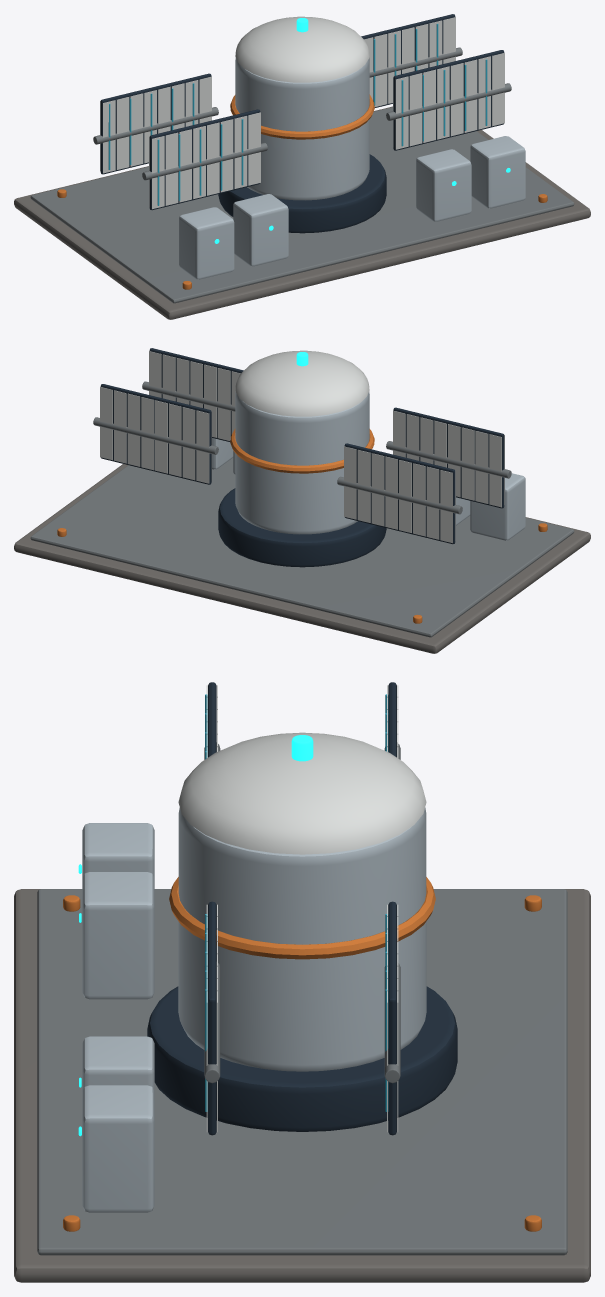
The model's file is polar-nuclear-station.glb.
The picture shows the model from 3 angles, top to bottom: view 1: azimuth 30°, elevation 25°; view 2: azimuth 150°, elevation 25°; view 3: azimuth 270°, elevation 25°; orthographic projection. The views are drawn at different scales.
Visible parts, largest first — view 1: RenderBatch_PolarNuclearStation_POLAR_NUC_Body, PolarNuclearStation_ServiceDeck, PolarNuclearStation_Foundation, Detail_PolarNuclear_Radiator_+1_-1, PolarNuclear_ReactorCrown, Detail_PolarNuclear_Radiator_-1_-1, Detail_PolarNuclear_Radiator_-1_+1, PolarNuclear_ReactorSkirt, Detail_PolarNuclear_Radiator_+1_+1, RenderBatch_PolarNuclear_RadiatorRoot_POLAR_NUC_CryoBlue, RenderBatch_PolarNuclear_RadiatorRoot_POLAR_NUC_Frame, PolarNuclear_Radiator_+1_-1 (+4 smaller); view 2: PolarNuclearStation_ServiceDeck, RenderBatch_PolarNuclearStation_POLAR_NUC_Body, PolarNuclearStation_Foundation, Detail_PolarNuclear_Radiator_+1_+1, Detail_PolarNuclear_Radiator_-1_+1, PolarNuclear_ReactorCrown, PolarNuclear_ReactorSkirt, Detail_PolarNuclear_Radiator_-1_-1, Detail_PolarNuclear_Radiator_+1_-1, RenderBatch_PolarNuclear_RadiatorRoot_POLAR_NUC_Frame, PolarNuclear_Radiator_-1_+1, PolarNuclear_Radiator_+1_+1 (+3 smaller); view 3: PolarNuclearStation_ServiceDeck, RenderBatch_PolarNuclearStation_POLAR_NUC_Body, PolarNuclearStation_Foundation, PolarNuclear_ReactorCrown, PolarNuclear_ReactorSkirt, RenderBatch_PolarNuclearStation_POLAR_NUC_SafetyOrange, PolarNuclear_Radiator_+1_+1, PolarNuclear_Radiator_+1_-1, RenderBatch_PolarNuclear_RadiatorRoot_POLAR_NUC_Frame, RenderBatch_PolarNuclear_RadiatorRoot_POLAR_NUC_CryoBlue.
Boxes of the visible parts, box(x1,y1,x2,y2) form: RenderBatch_PolarNuclearStation_POLAR_NUC_Body: box(179, 57, 525, 279); PolarNuclearStation_ServiceDeck: box(30, 107, 574, 303); PolarNuclearStation_Foundation: box(14, 106, 590, 319); Detail_PolarNuclear_Radiator_+1_-1: box(393, 53, 504, 149); PolarNuclear_ReactorCrown: box(235, 16, 369, 82); Detail_PolarNuclear_Radiator_-1_-1: box(149, 112, 260, 209); Detail_PolarNuclear_Radiator_-1_+1: box(100, 76, 211, 173); PolarNuclear_ReactorSkirt: box(218, 154, 386, 233); Detail_PolarNuclear_Radiator_+1_+1: box(364, 17, 455, 106); RenderBatch_PolarNuclear_RadiatorRoot_POLAR_NUC_CryoBlue: box(108, 24, 487, 205); RenderBatch_PolarNuclear_RadiatorRoot_POLAR_NUC_Frame: box(93, 47, 511, 180); PolarNuclear_Radiator_+1_-1: box(393, 50, 504, 150); PolarNuclearStation_ServiceDeck: box(30, 457, 574, 637); RenderBatch_PolarNuclearStation_POLAR_NUC_Body: box(212, 391, 525, 540); PolarNuclearStation_Foundation: box(14, 464, 590, 653); Detail_PolarNuclear_Radiator_+1_+1: box(100, 387, 211, 483); Detail_PolarNuclear_Radiator_-1_+1: box(344, 446, 455, 543); PolarNuclear_ReactorCrown: box(235, 350, 369, 416); PolarNuclear_ReactorSkirt: box(218, 488, 386, 567); Detail_PolarNuclear_Radiator_-1_-1: box(393, 410, 504, 507); Detail_PolarNuclear_Radiator_+1_-1: box(149, 351, 240, 440); RenderBatch_PolarNuclear_RadiatorRoot_POLAR_NUC_Frame: box(93, 381, 511, 514); PolarNuclear_Radiator_-1_+1: box(344, 443, 455, 544); PolarNuclear_Radiator_+1_+1: box(100, 384, 211, 484); PolarNuclearStation_ServiceDeck: box(37, 889, 567, 1255); RenderBatch_PolarNuclearStation_POLAR_NUC_Body: box(82, 807, 426, 1212); PolarNuclearStation_Foundation: box(14, 889, 590, 1282); PolarNuclear_ReactorCrown: box(178, 732, 426, 854); PolarNuclear_ReactorSkirt: box(147, 986, 457, 1131); RenderBatch_PolarNuclearStation_POLAR_NUC_SafetyOrange: box(63, 877, 541, 1231); PolarNuclear_Radiator_+1_+1: box(388, 901, 396, 1135); PolarNuclear_Radiator_+1_-1: box(208, 901, 216, 1135); RenderBatch_PolarNuclear_RadiatorRoot_POLAR_NUC_Frame: box(204, 742, 400, 1083); RenderBatch_PolarNuclear_RadiatorRoot_POLAR_NUC_CryoBlue: box(205, 694, 388, 1111).
Size of the model in its own units: 12.5 by 5.45 by 8.
